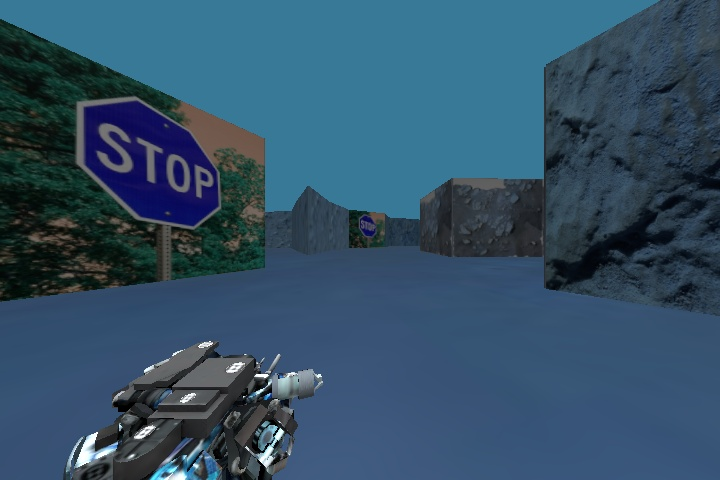stop_sign: (72, 70, 231, 239), (353, 210, 381, 240)
